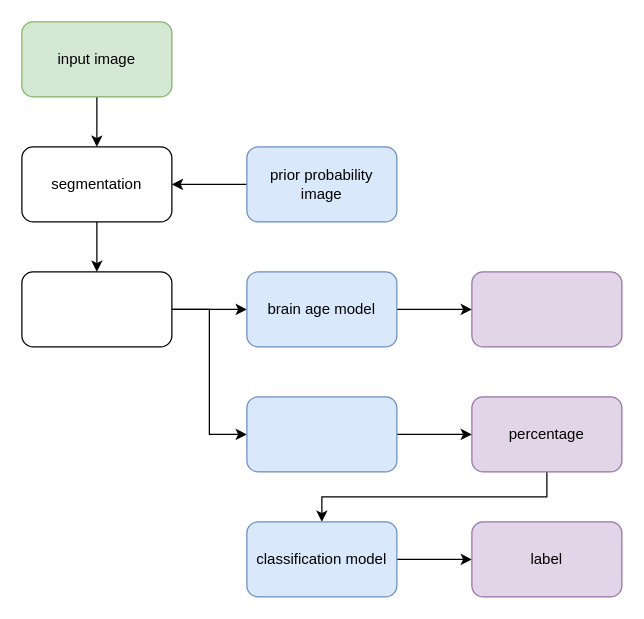
The diagram is 644 pixels wide and 619 high, and some of its shapes have lost their labels. The centre of each missing label's shape, as x and y in pixels:
brain age: point (546, 309)
freesurfer recon: point (96, 309)
growth curve model: point (321, 434)
